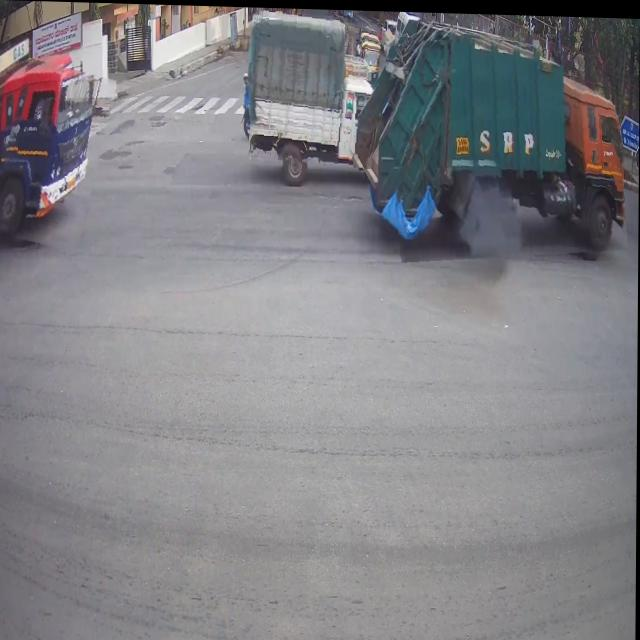Bus: (0, 61, 108, 250)
LCV: (251, 10, 380, 165)
Truck: (387, 26, 625, 261)
